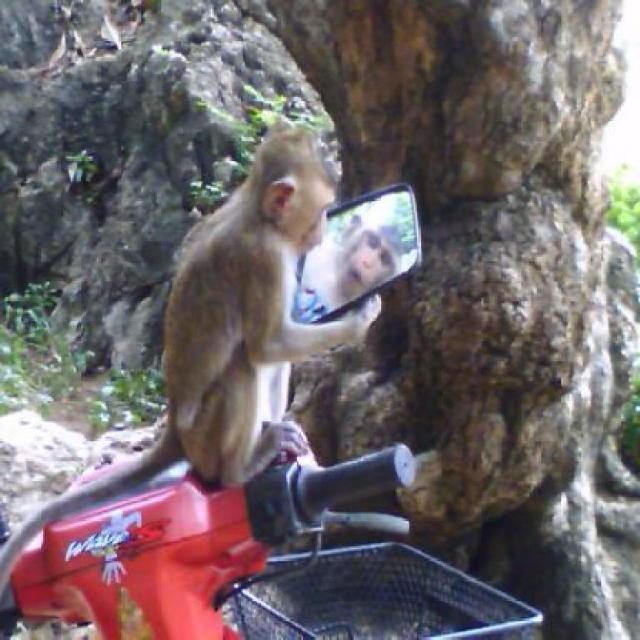Monkey: (0, 123, 383, 597)
